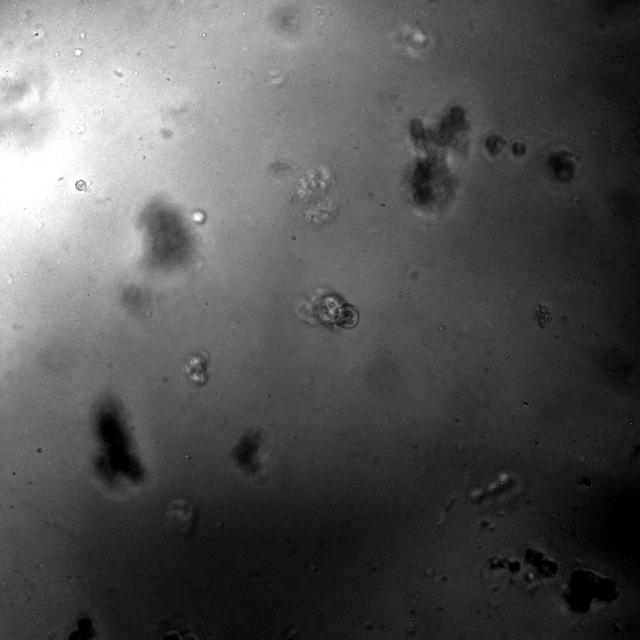organoid: (407, 105, 469, 210), (92, 394, 146, 495), (138, 199, 195, 273), (292, 165, 341, 227), (296, 289, 359, 330), (564, 569, 618, 612), (229, 428, 271, 483), (489, 549, 558, 582), (469, 472, 516, 502), (546, 149, 578, 182), (183, 351, 208, 386), (484, 133, 506, 157), (535, 303, 551, 329), (512, 140, 526, 157), (75, 180, 86, 191)
